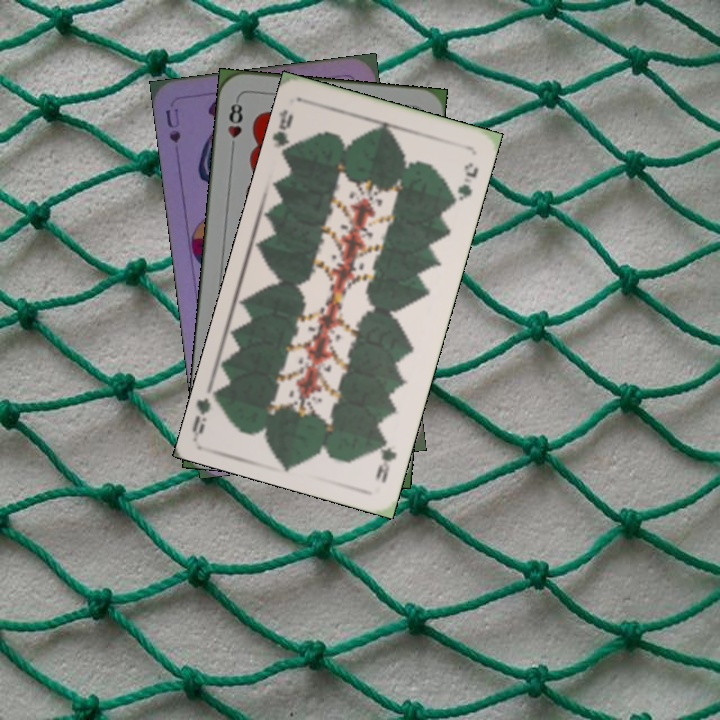G9: (269, 105, 298, 159), (371, 432, 400, 486)
H8: (224, 95, 245, 154)
SU: (161, 104, 184, 146)
